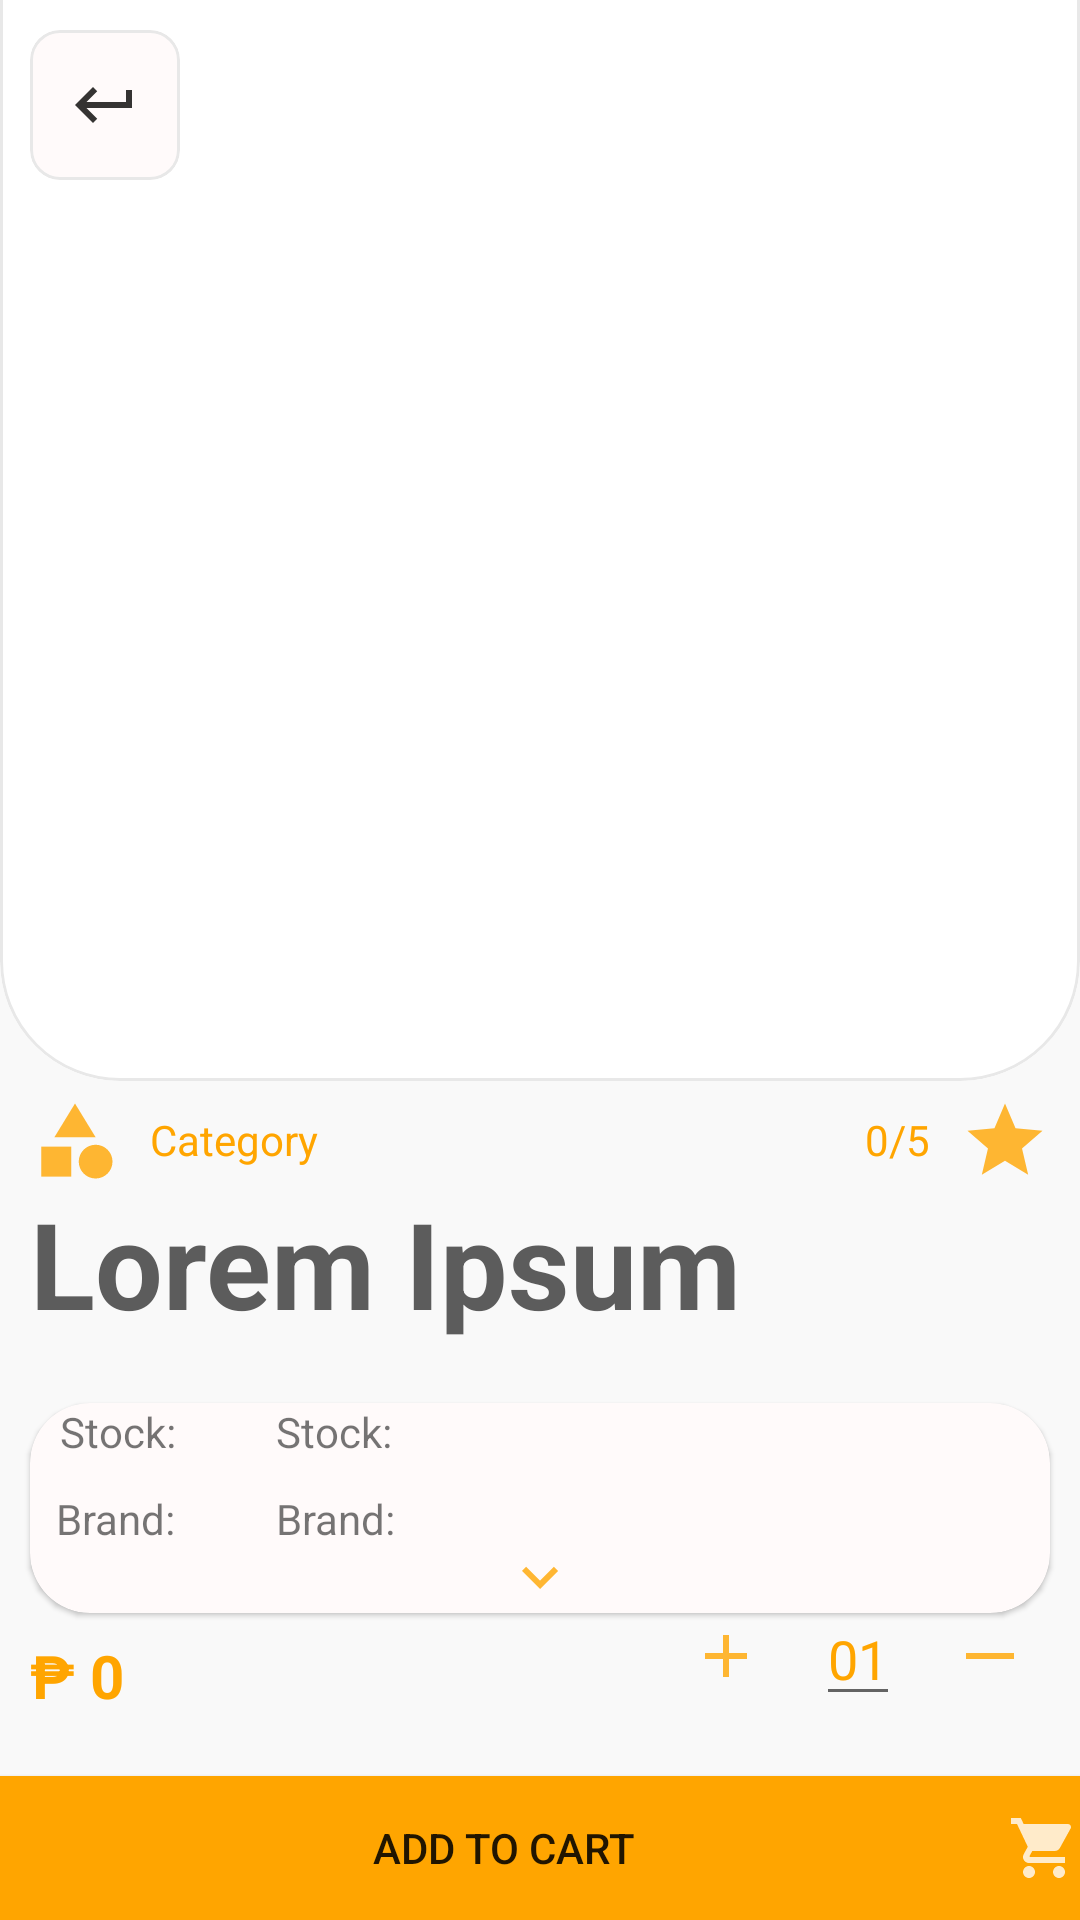

Named icons in this screenshot (1080x1920) and their centers, point (x, y):
exit: point (103, 105)
star: point (1005, 1139)
